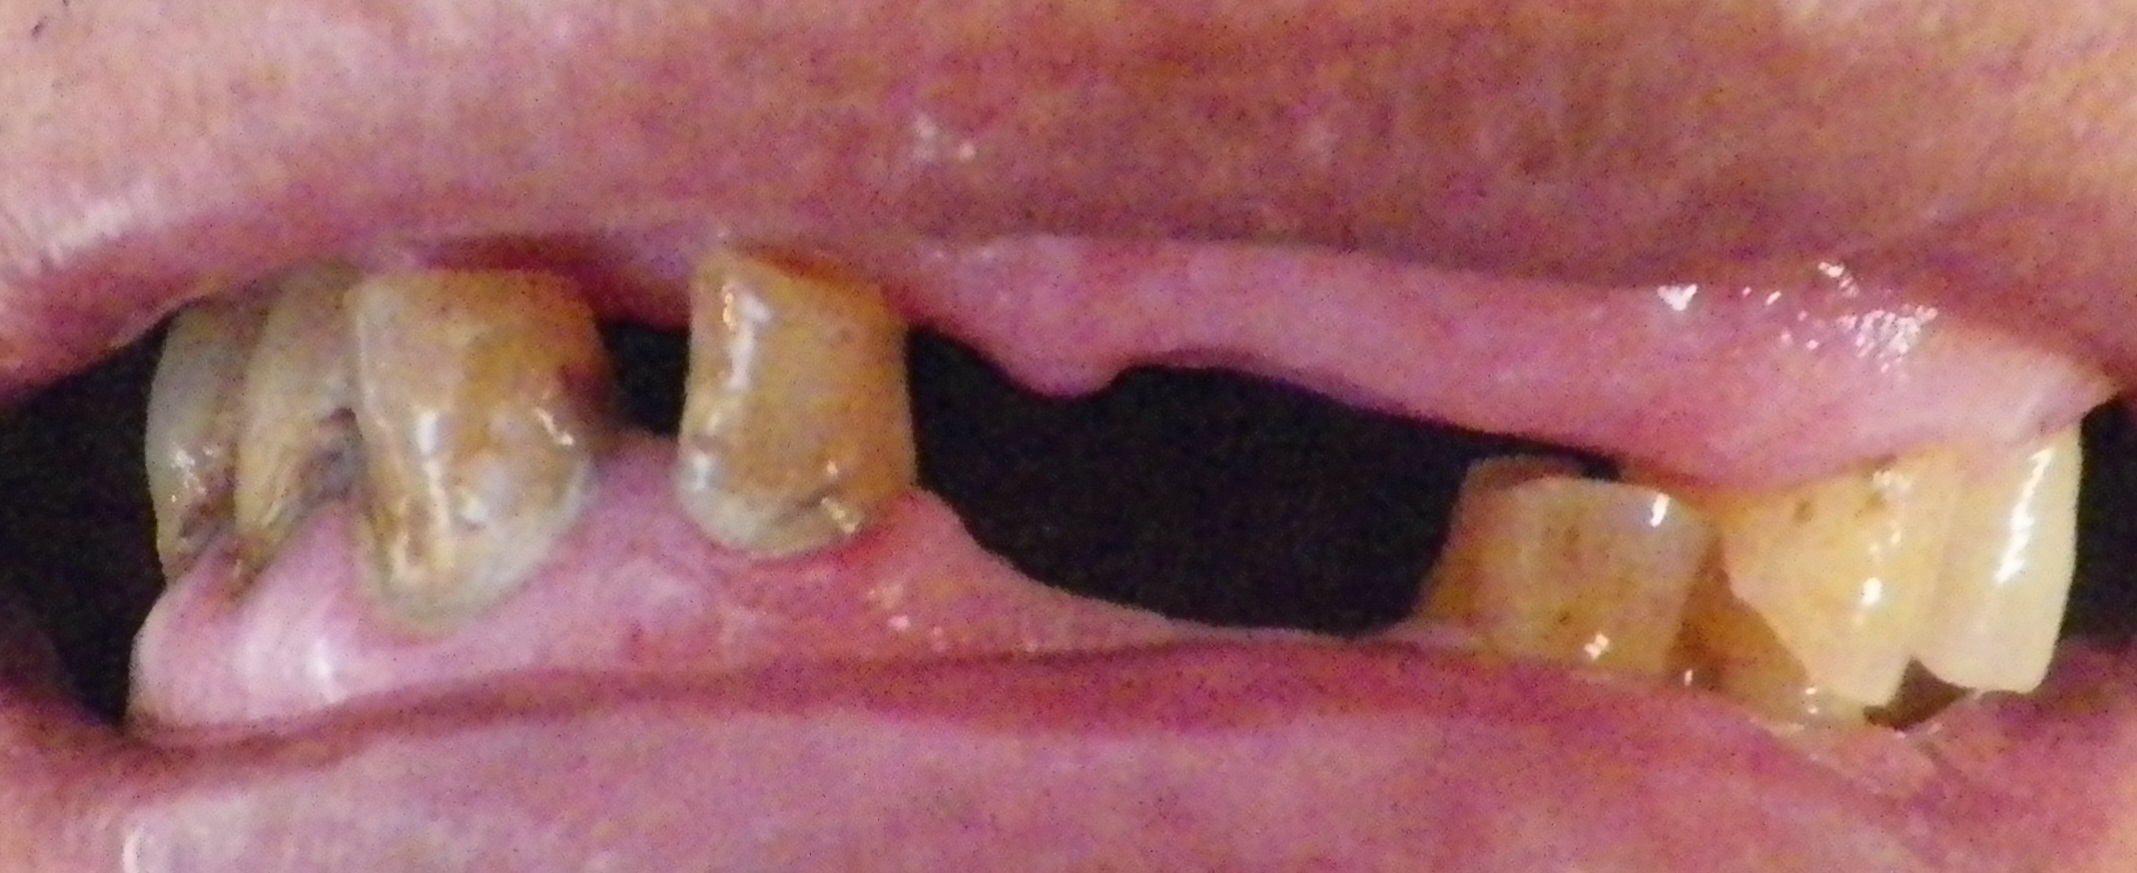boca: (114, 251, 2078, 734)
